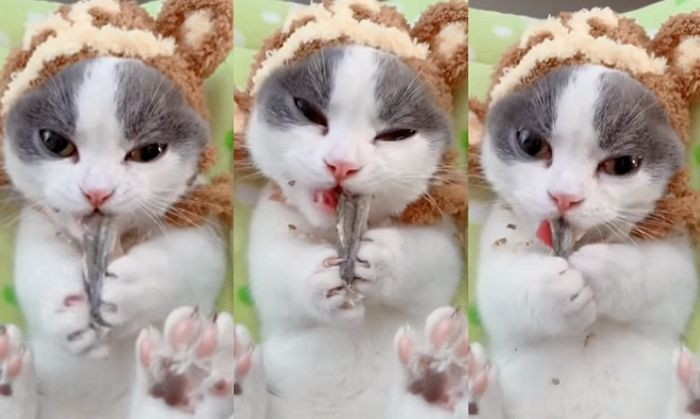cat: (3, 24, 233, 419), (241, 29, 467, 419), (473, 50, 700, 416)
cat-face: (475, 47, 691, 257), (248, 29, 460, 235), (7, 49, 212, 247)
